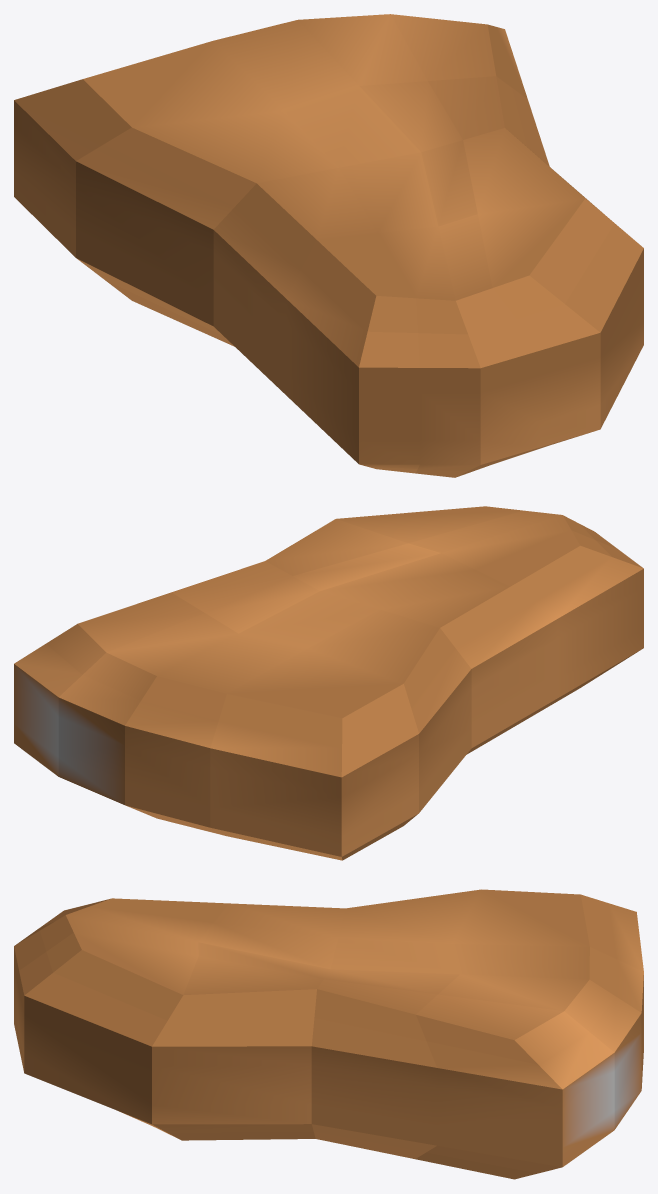
The model's file is Rock_Desert14.fbx.
The picture shows the model from 3 angles, top to bottom: view 1: azimuth 30°, elevation 25°; view 2: azimuth 150°, elevation 25°; view 3: azimuth 270°, elevation 25°; orthographic projection. The views are drawn at different scales.
Parts seen in each view (by area): view 1: Rock_Desert12; view 2: Rock_Desert12; view 3: Rock_Desert12.
Boxes of the visible parts, x1,y1,x2,y2 form: Rock_Desert12: [14, 14, 643, 477]; Rock_Desert12: [14, 506, 643, 860]; Rock_Desert12: [14, 889, 643, 1179].
Size of the model in its own units: 19.85 by 7.77 by 29.22.
